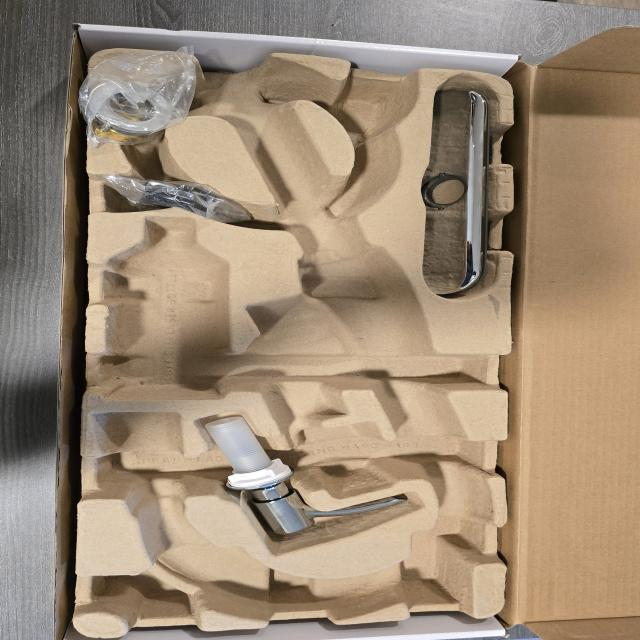1m: (91, 55, 491, 620)
2: (203, 415, 406, 538)
3m: (110, 217, 226, 399)
4: (422, 90, 489, 297)
5m: (334, 81, 405, 137)
6: (79, 45, 200, 151)
7: (87, 174, 256, 227)
